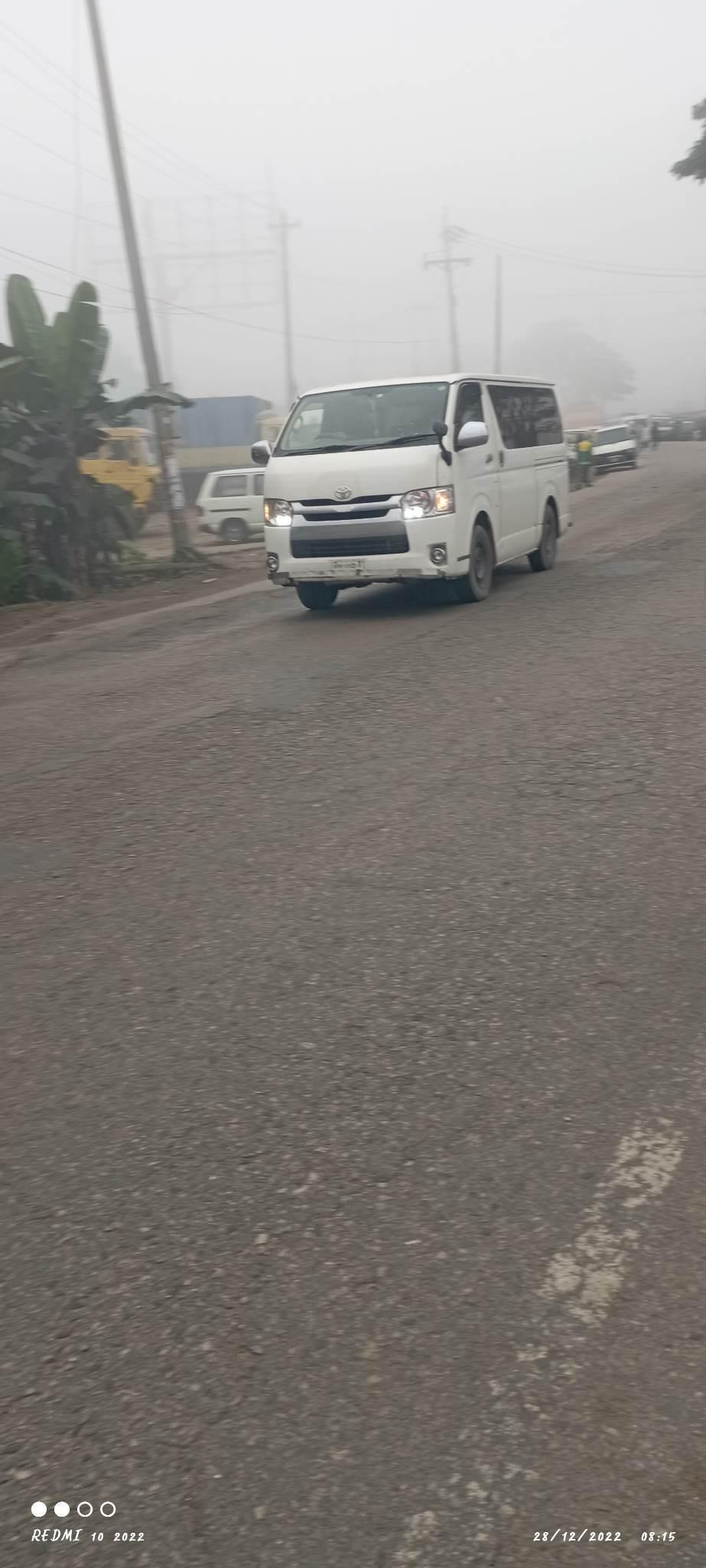Car: (246, 357, 597, 601), (177, 459, 307, 549), (581, 410, 657, 498)
